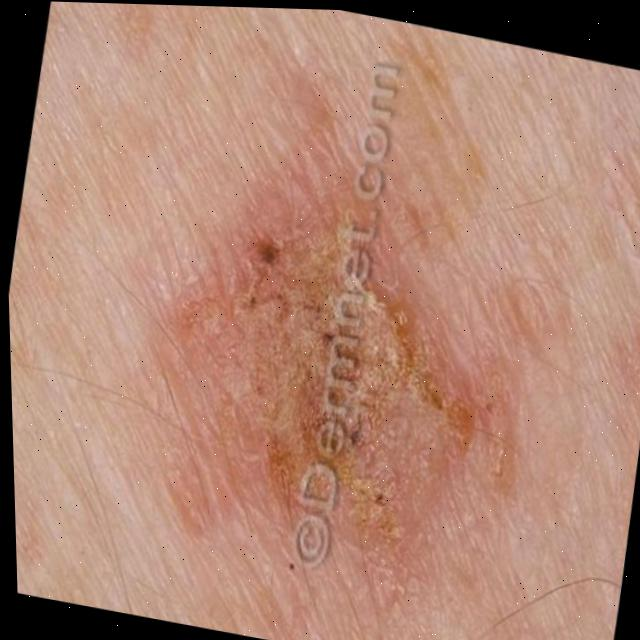Eczema: (187, 182, 493, 561)
